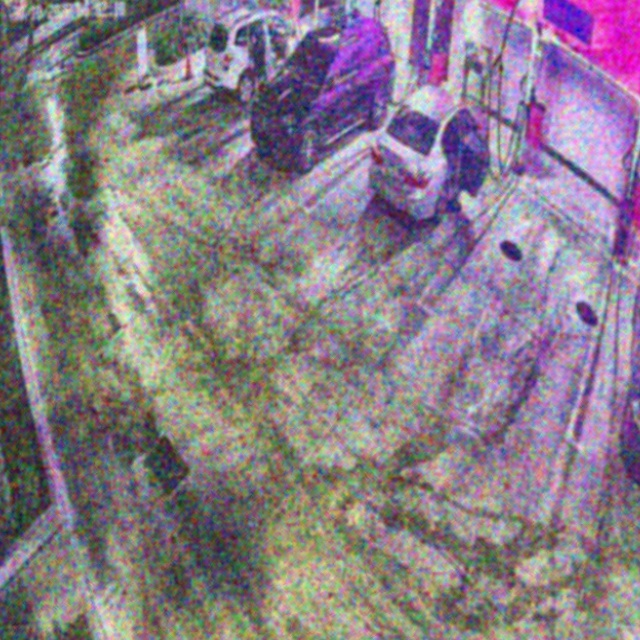Car: (367, 82, 490, 231)
